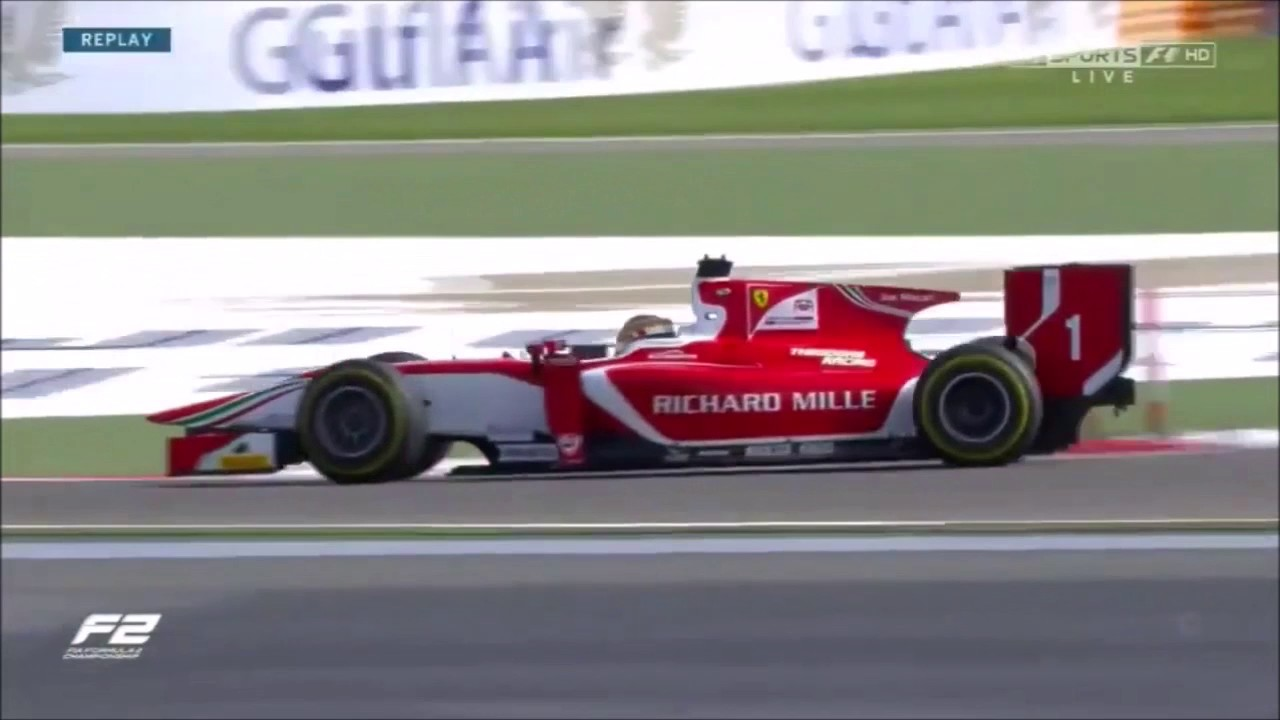race car: (142, 256, 1139, 488)
